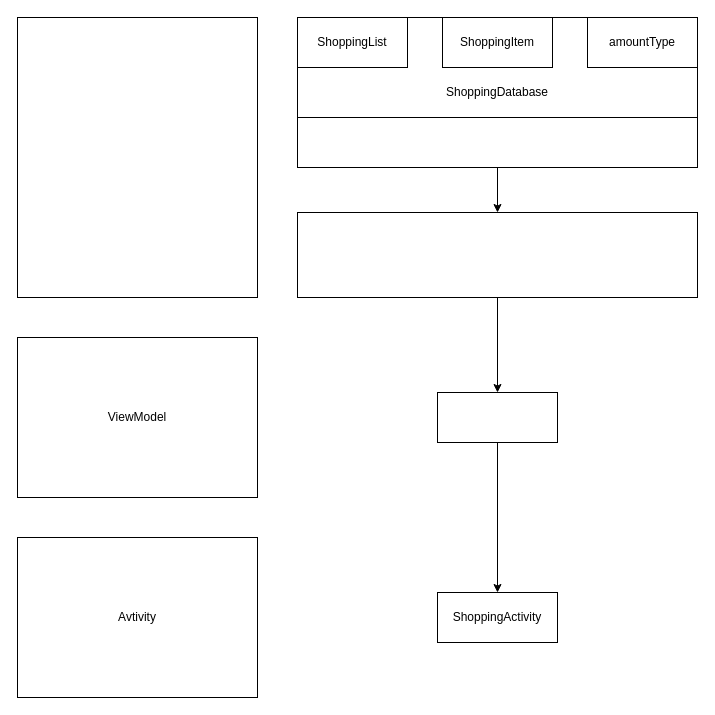
Some shapes in this 715 by 715 pixel diagram are drawn without their labels. The shapes that lost their labels are listed below. From the top down, each one's centre as x and y in pixels, then its label:
the point at 137,157: Database
the point at 497,142: ShoppingDAO
the point at 497,255: ShoppingRepository
the point at 497,417: ShoppingViewModel
